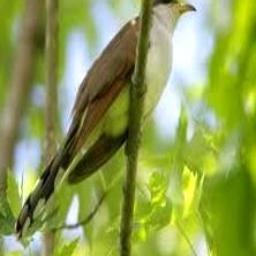Cuckoo: (15, 0, 197, 236)
